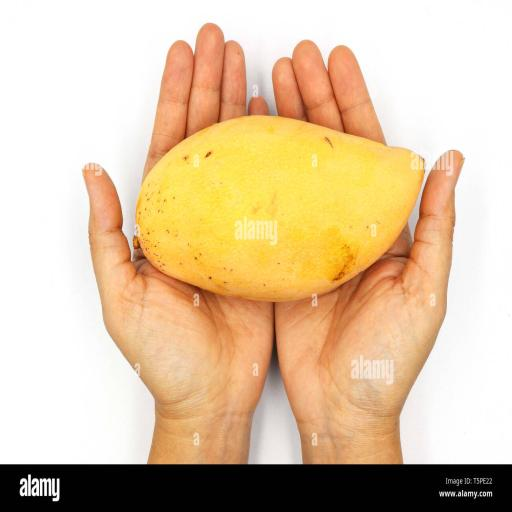mango: (136, 117, 424, 301)
